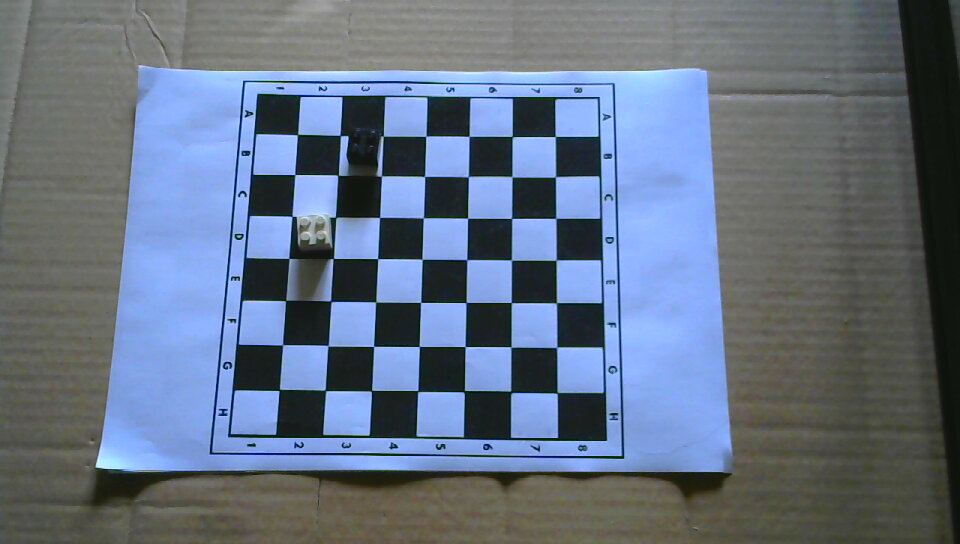bp: (346, 127, 383, 168)
wp: (295, 213, 333, 252)
